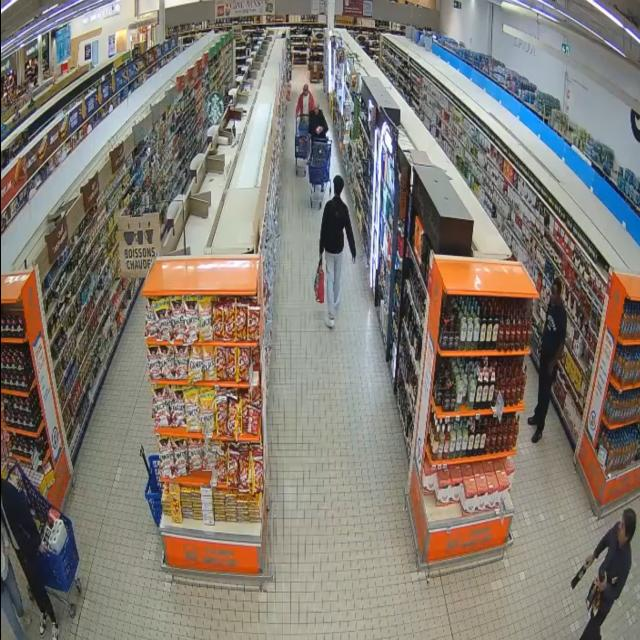article: (571, 564, 587, 591), (586, 582, 597, 610), (593, 591, 600, 618), (607, 574, 619, 584)
bags: (314, 264, 324, 303)
hands: (595, 573, 607, 591), (585, 554, 594, 567), (548, 363, 555, 375), (39, 543, 47, 553), (316, 126, 323, 135), (319, 254, 322, 266), (352, 256, 356, 263)
person: (1, 479, 59, 639), (581, 509, 636, 639), (528, 278, 566, 443), (320, 176, 356, 328), (0, 522, 25, 639), (310, 105, 328, 138), (296, 84, 314, 116)
